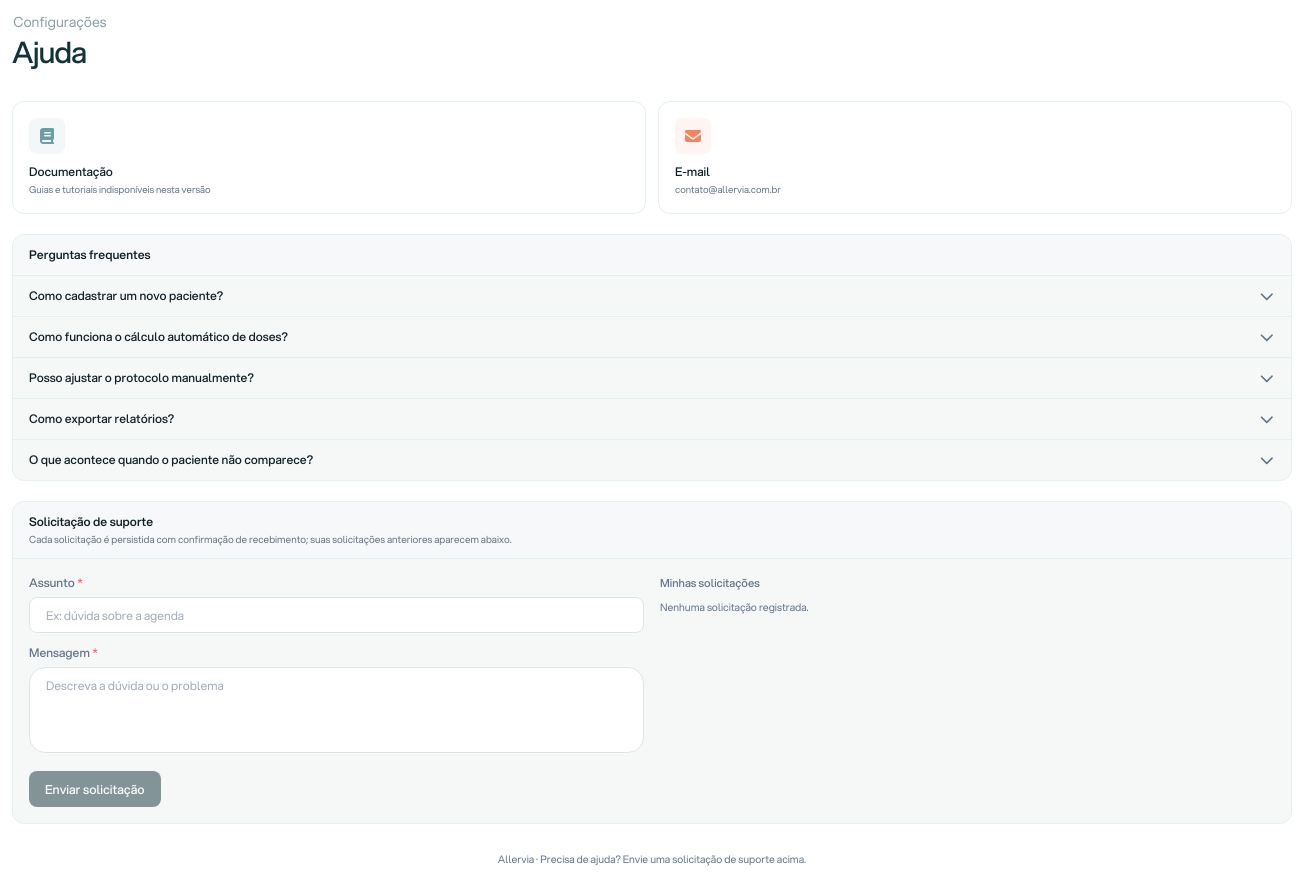
Test: FE-12 administrative outcomes › shows the real persisted support receipt and reloads the list
Type "Synthetic subject" into the field with placeholder "Ex: dúvida sobre a agenda". click: (336, 615)
box: left=29, top=597, right=644, bottom=633
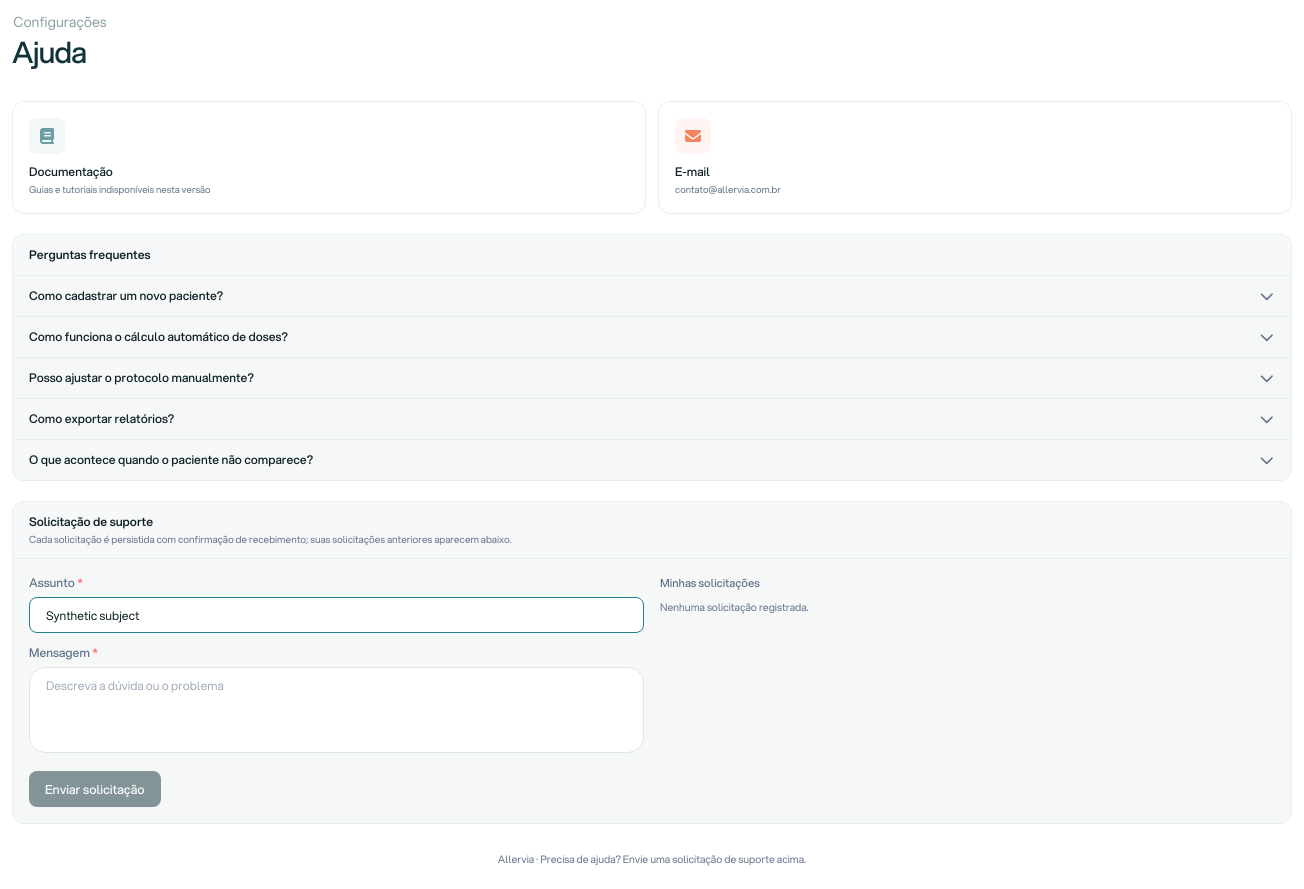
Type "Synthetic message" into the text box with placeholder "Descreva a dúvida ou o problema". click: (336, 710)
box: left=29, top=667, right=644, bottom=753
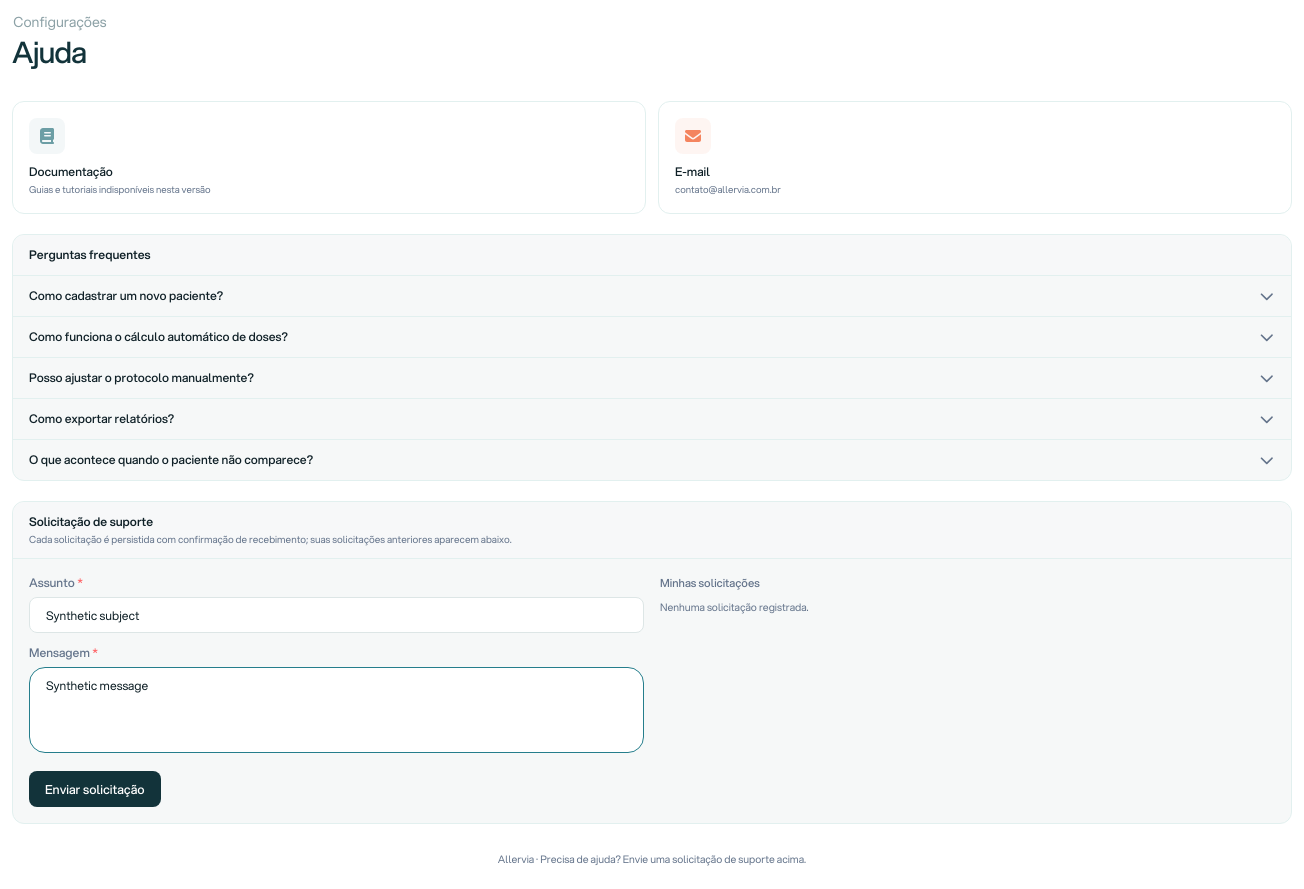
Click the button "Enviar solicitação". click: (95, 789)
box: left=29, top=771, right=160, bottom=807
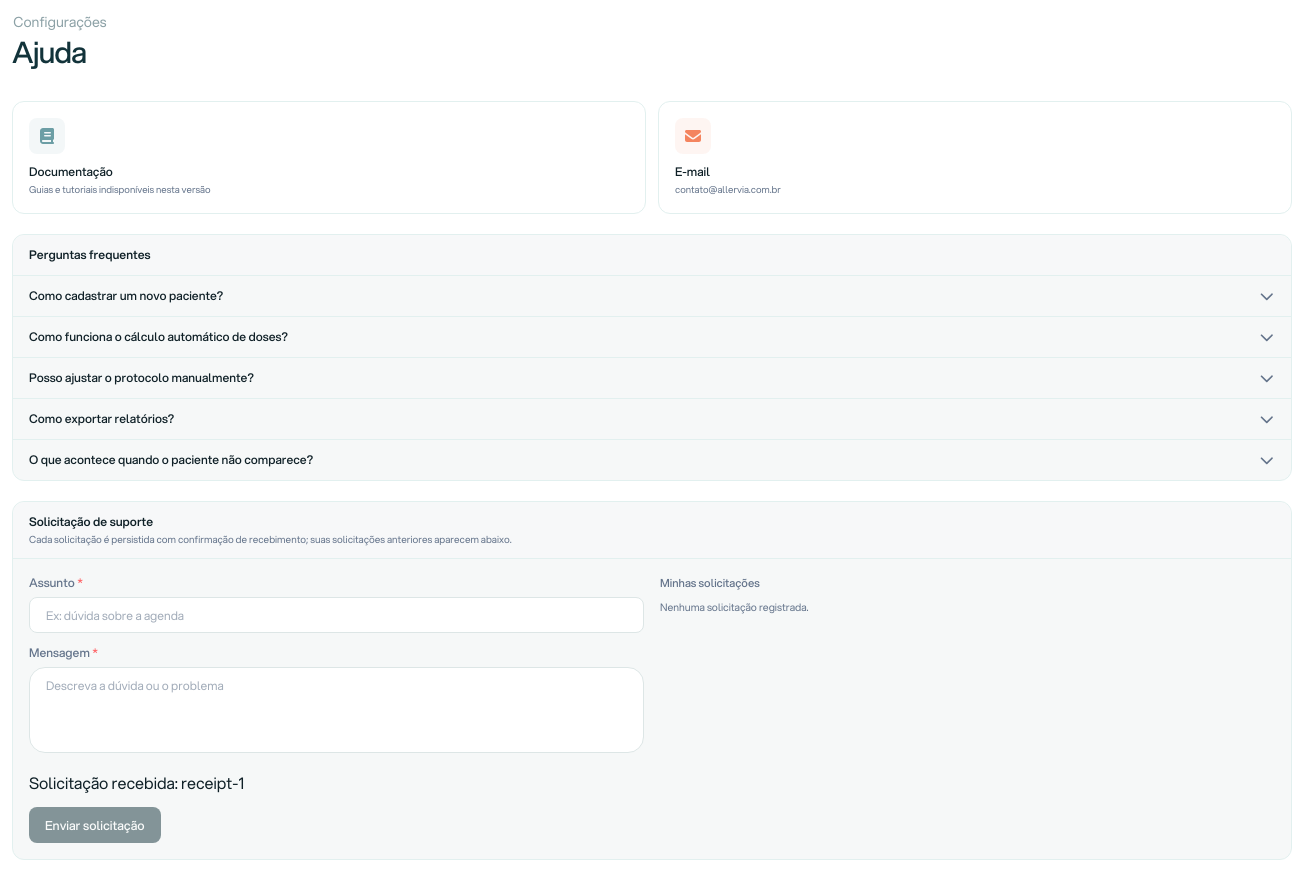
Result: the message shows "receipt-1" at left=181, top=771, right=244, bottom=794
Result: the field with placeholder "Ex: dúvida sobre a agenda" is empty at left=29, top=597, right=644, bottom=633
